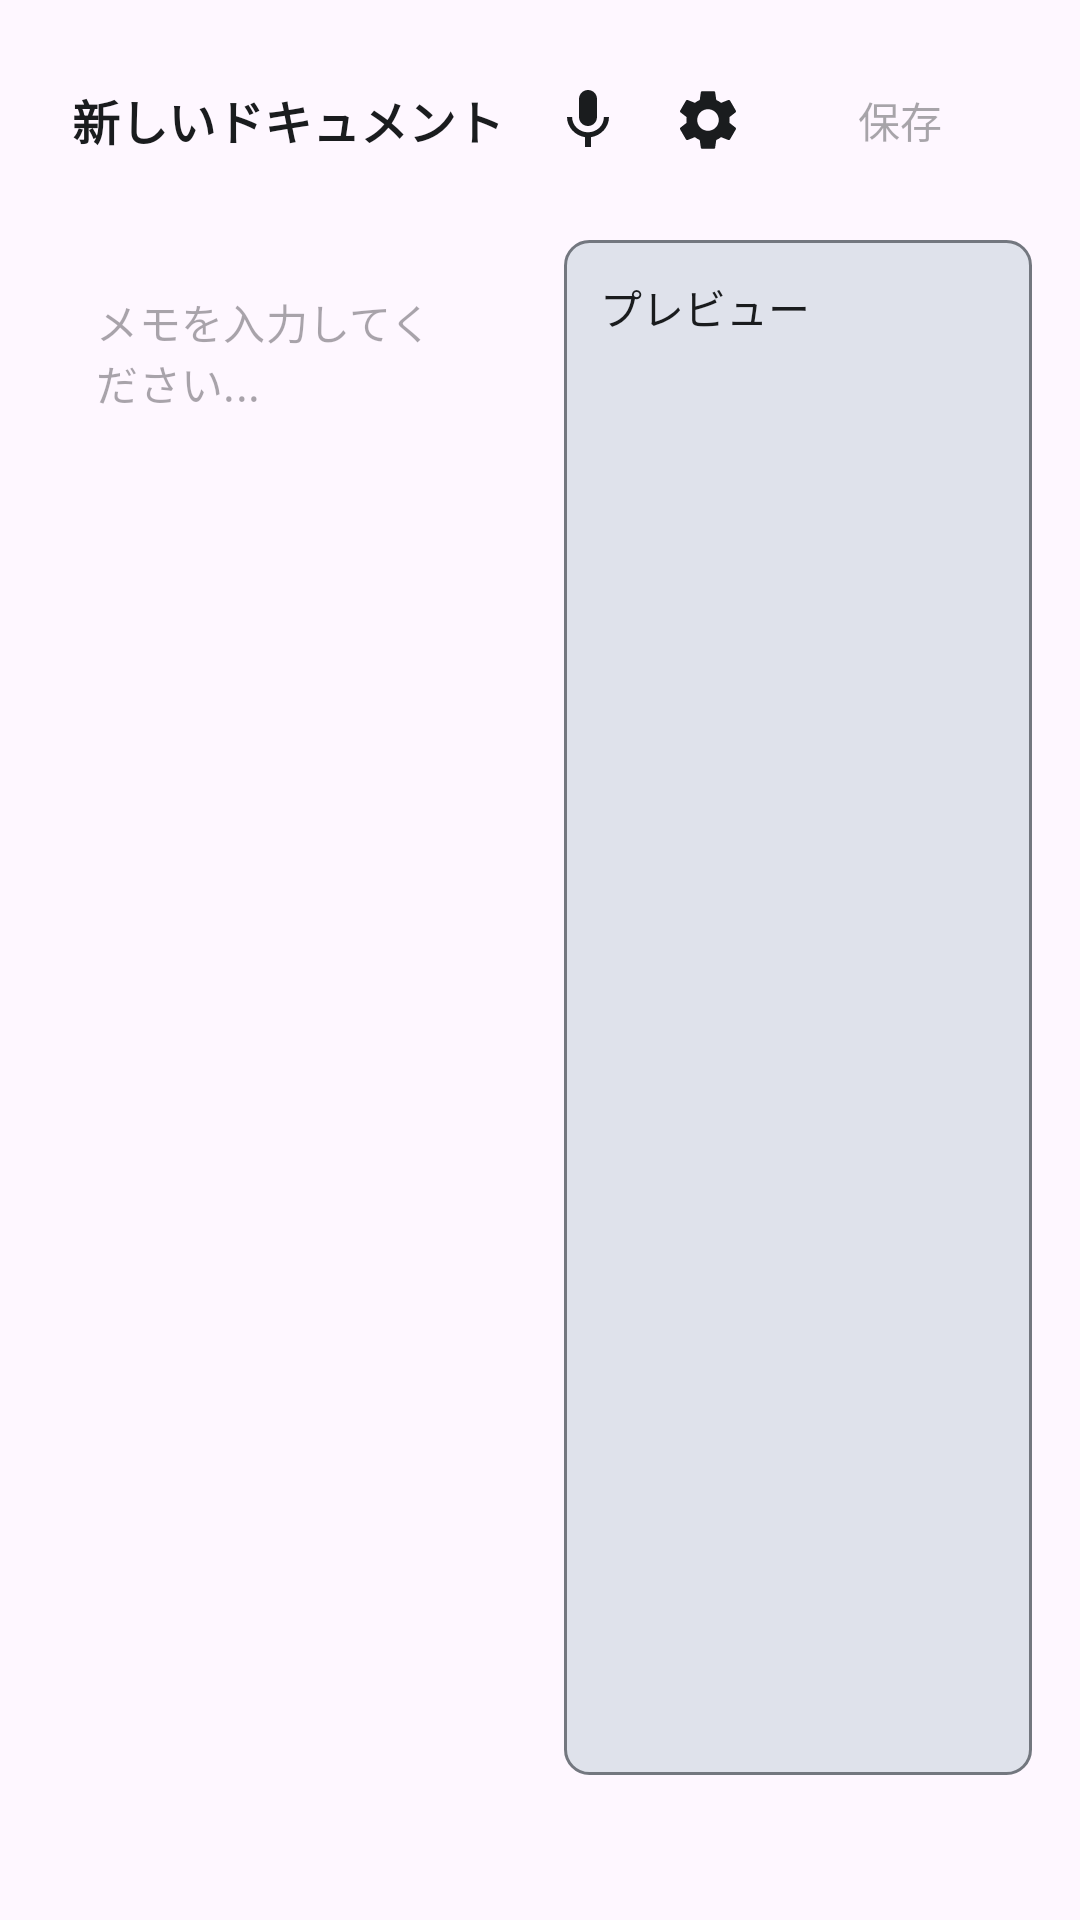

Icon bounding boxes for this 1080px×1920px phone screenshot, format (x1, y1, x2, y2):
音声入力: (567, 90, 609, 147)
